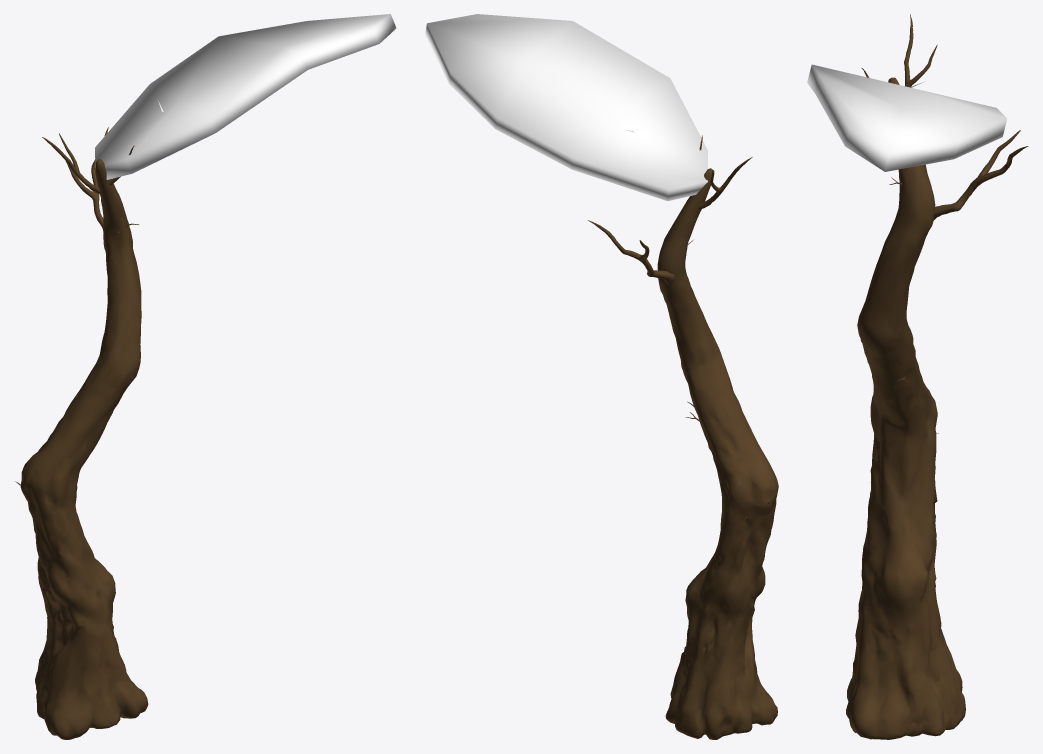
Rendered from tree.glb.
3 renders of one model, left to right at view 1: azimuth 30°, elevation 25°; view 2: azimuth 150°, elevation 25°; view 3: azimuth 270°, elevation 25°, orthographic. The views are drawn at different scales.
Parts seen in each view (by area): view 1: Volume4_copy002, Plane.001; view 2: Plane.001, Volume4_copy002; view 3: Volume4_copy002, Plane.001.
Part boxes in pixels (x1=…): Volume4_copy002: x1=15, y1=127, x2=148, y2=739; Plane.001: x1=95, y1=14, x2=396, y2=179; Plane.001: x1=425, y1=14, x2=707, y2=201; Volume4_copy002: x1=587, y1=135, x2=778, y2=739; Volume4_copy002: x1=846, y1=14, x2=1028, y2=739; Plane.001: x1=807, y1=64, x2=1006, y2=171.
Bounding box in the file's own units: 1.41 × 2.35 × 0.6289.
